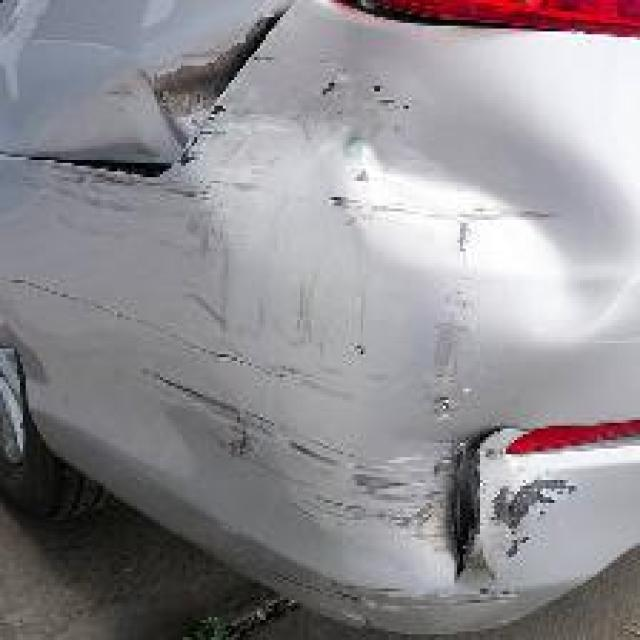bumper_dent_minor: (363, 103, 609, 323)
